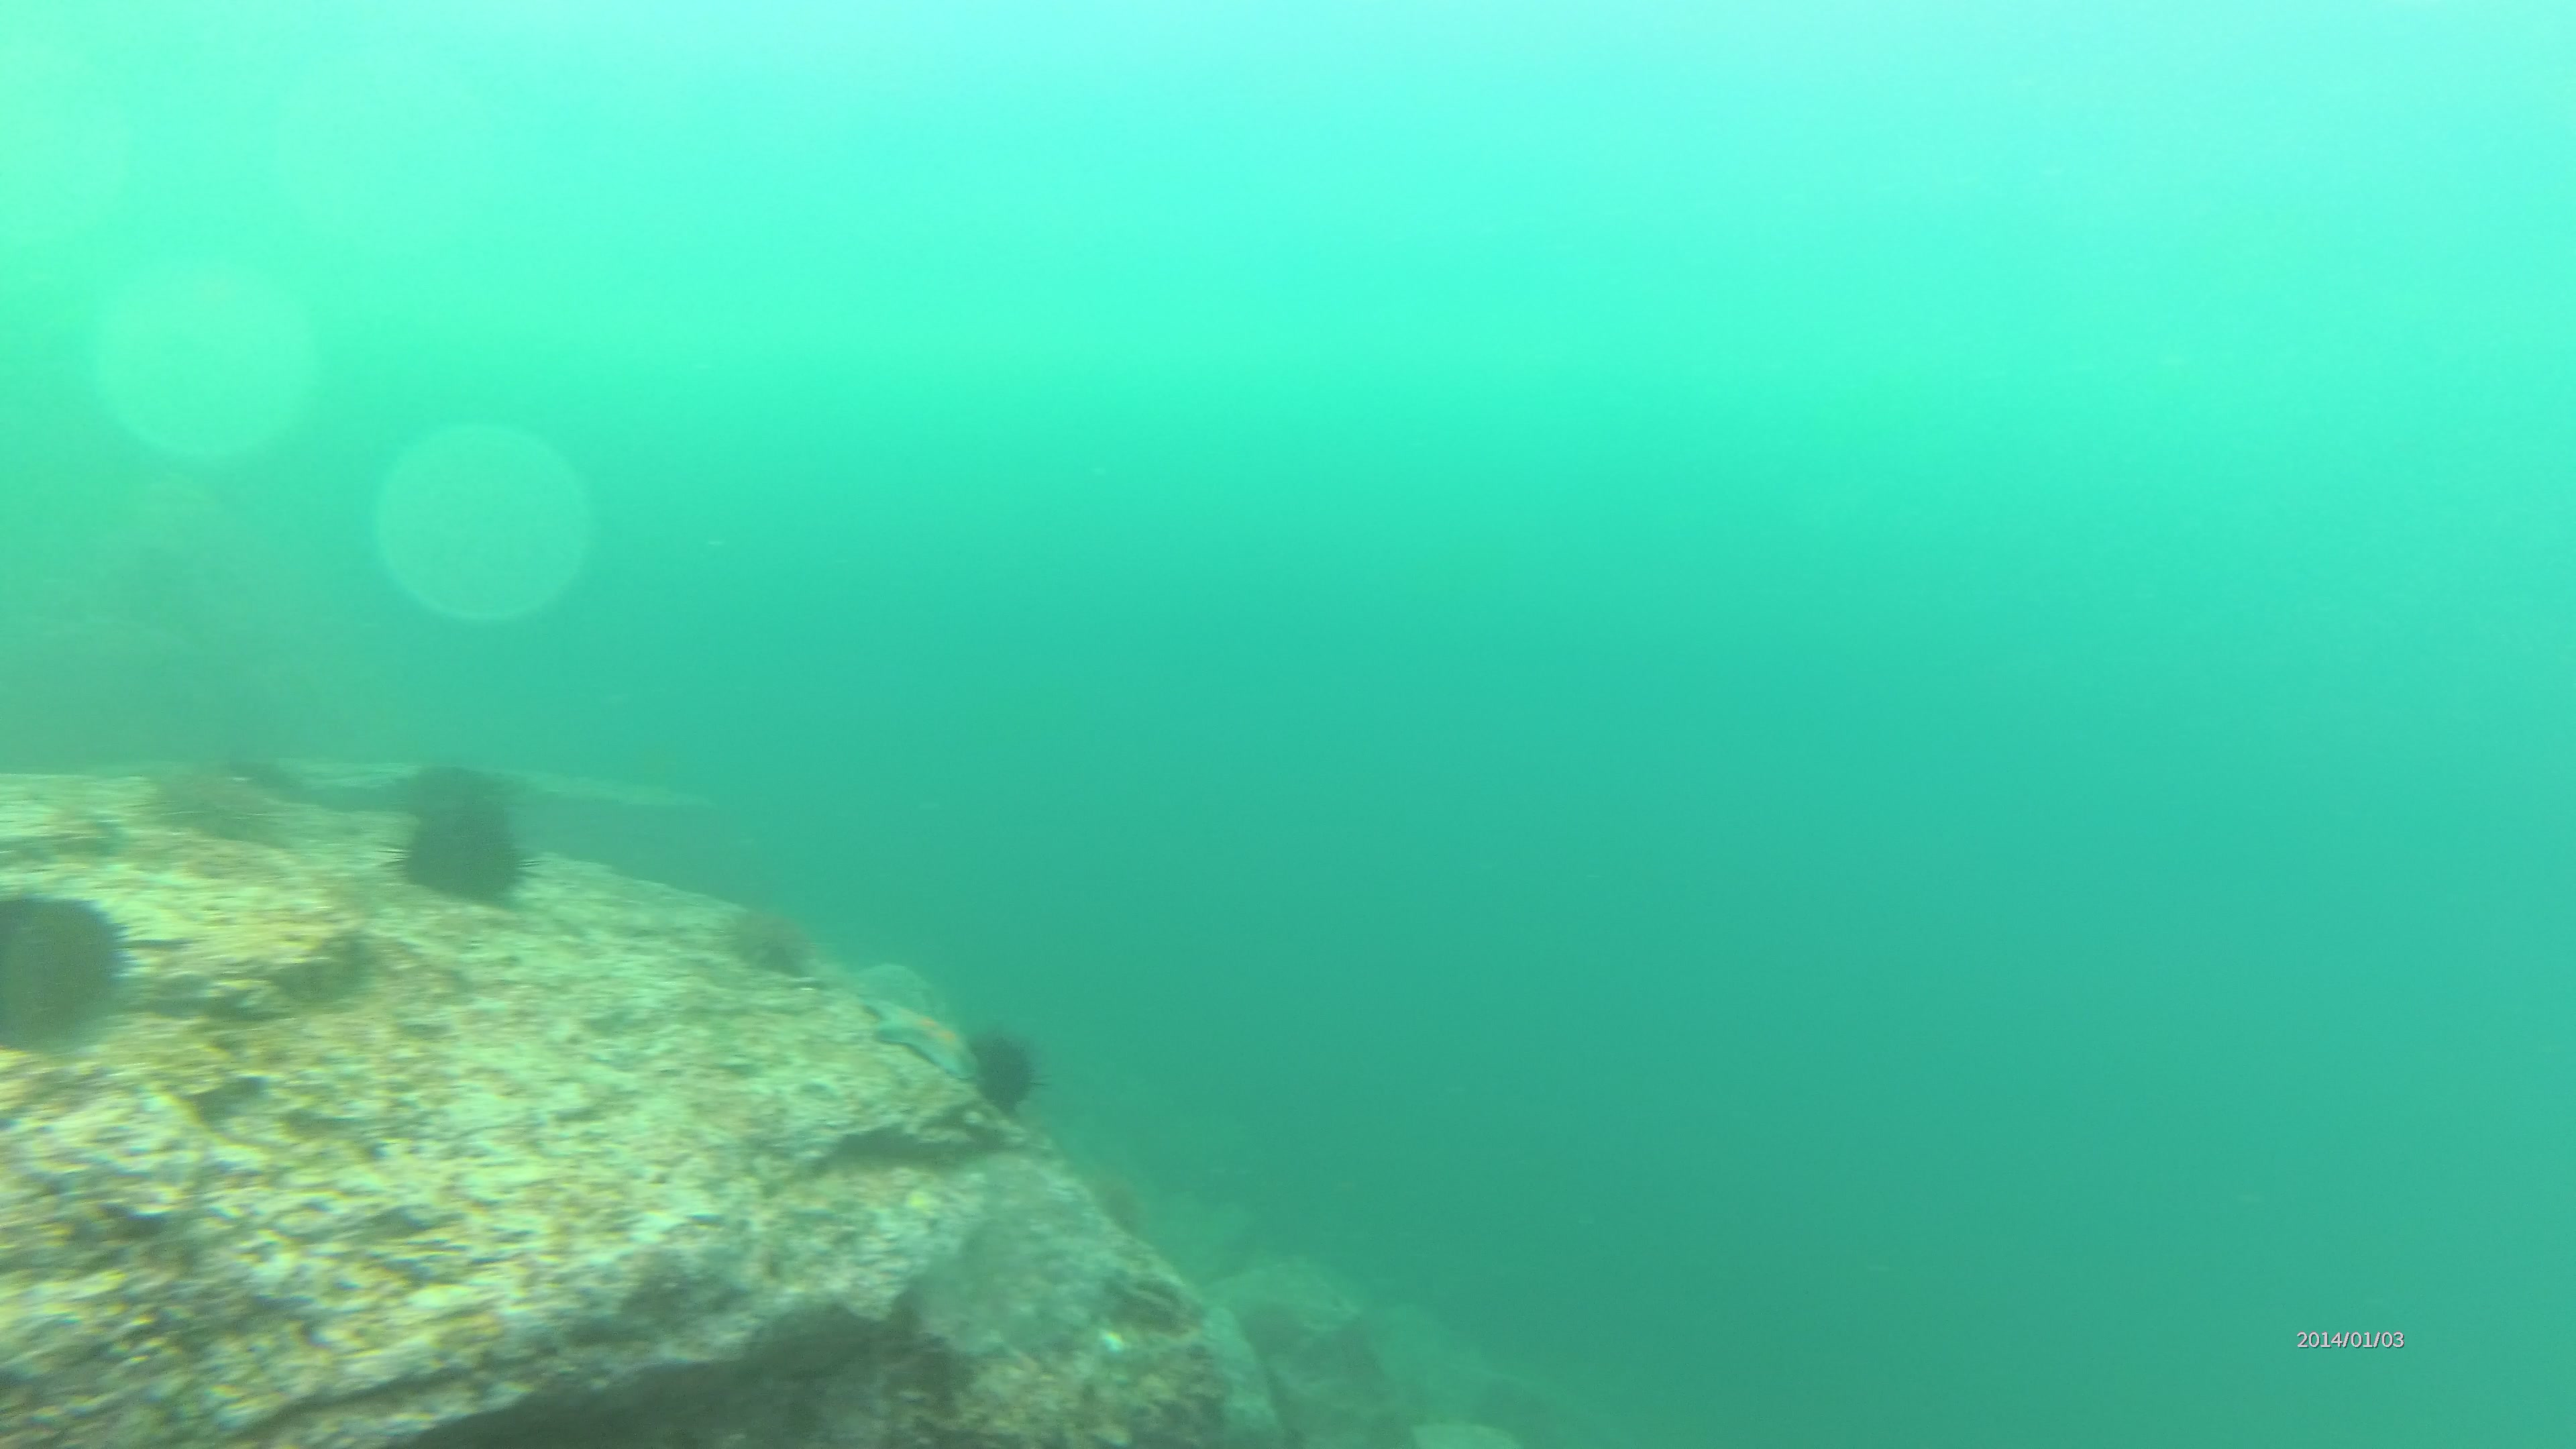echinus: (4, 890, 122, 1046), (156, 757, 288, 858), (400, 805, 522, 906), (398, 752, 510, 835), (724, 893, 821, 980), (968, 1035, 1042, 1118)
starfish: (869, 994, 973, 1081), (849, 961, 941, 1028)
